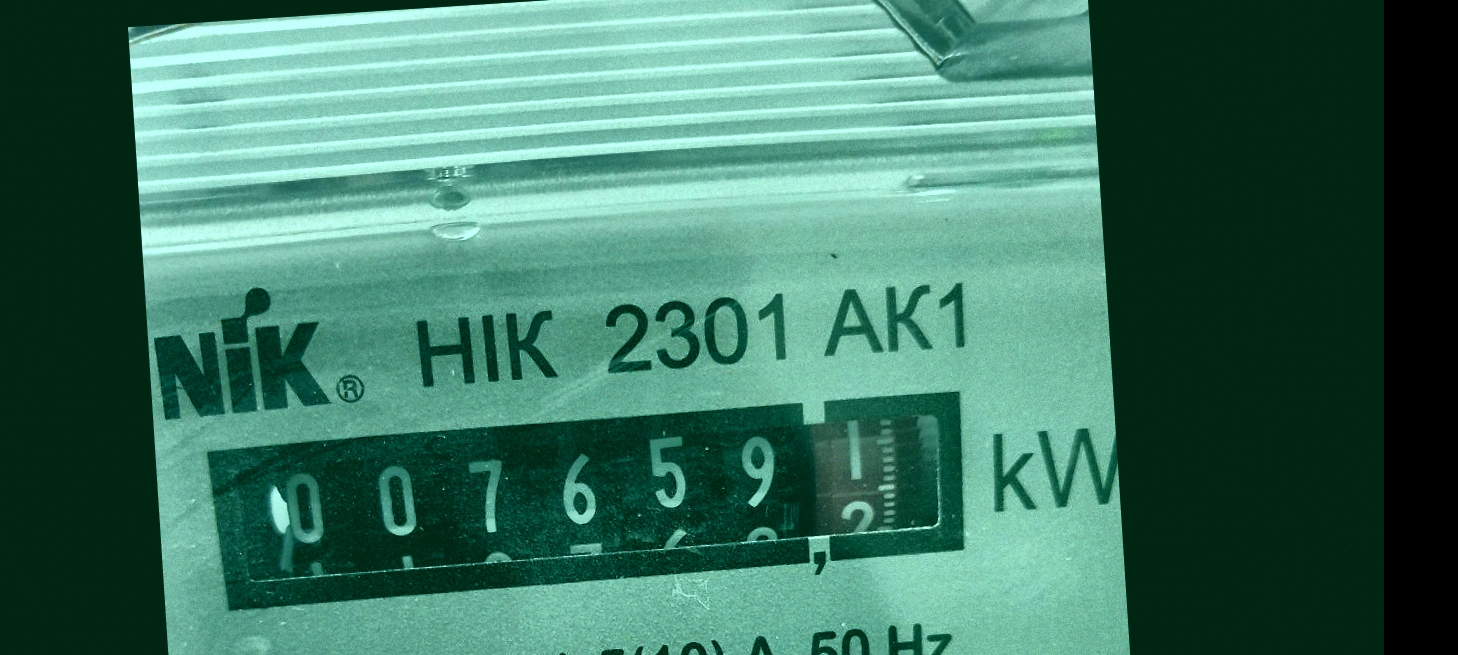0: (364, 455, 425, 544), (276, 462, 332, 555)
1: (836, 412, 875, 489)
5: (641, 429, 692, 514)
6: (549, 444, 605, 530)
7: (462, 452, 509, 540)
9: (734, 427, 781, 517)
screen: (185, 369, 991, 633)
